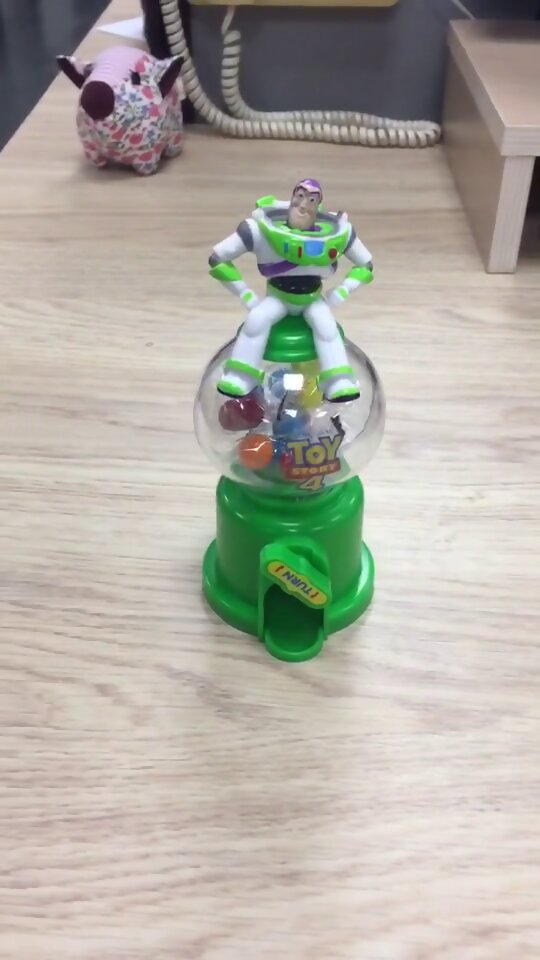buzz: (190, 175, 390, 661)
